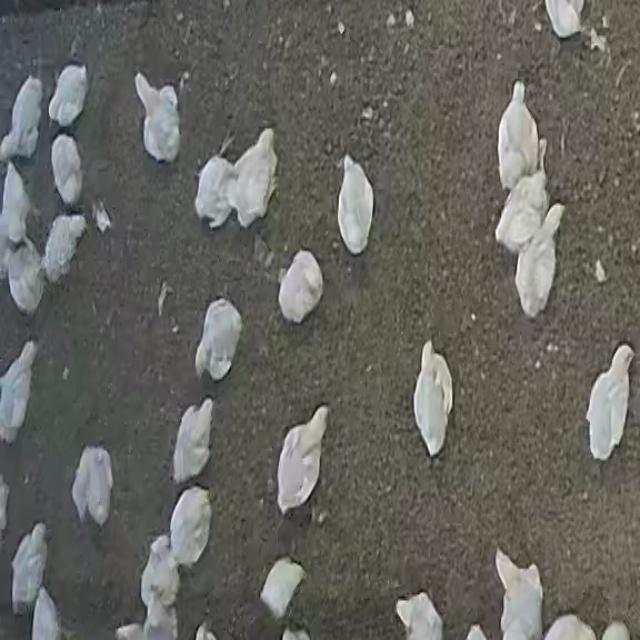chicken: (514, 203, 565, 319), (494, 154, 552, 252), (275, 408, 328, 513), (585, 344, 633, 459), (226, 129, 279, 224), (414, 340, 454, 456), (498, 81, 540, 190), (132, 74, 180, 164), (496, 550, 544, 640), (194, 300, 242, 382), (336, 154, 374, 253), (0, 342, 38, 441), (0, 77, 43, 161), (172, 402, 214, 486), (167, 488, 211, 566), (278, 250, 324, 324), (72, 446, 114, 527), (11, 524, 48, 613), (193, 154, 237, 228), (5, 238, 46, 316), (41, 214, 86, 284), (140, 536, 180, 613), (259, 557, 305, 623), (0, 162, 34, 248), (48, 64, 88, 127), (395, 591, 444, 640), (51, 133, 84, 205), (31, 590, 65, 639), (544, 1, 586, 38), (540, 615, 598, 640)
